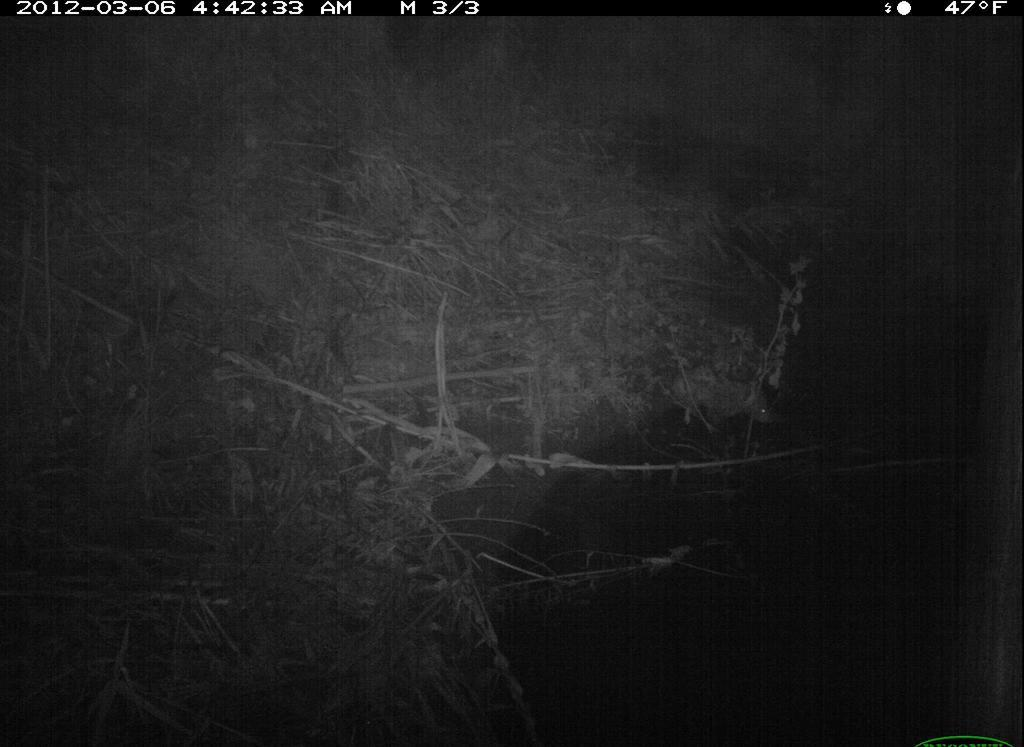opossum: (647, 364, 783, 440)
